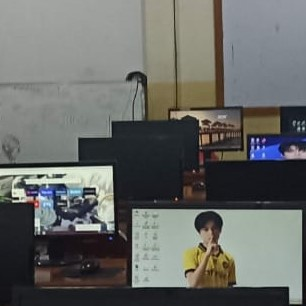monitor: (1, 103, 305, 304), (127, 201, 306, 301), (168, 105, 306, 202), (0, 161, 120, 242), (0, 202, 36, 301), (247, 132, 306, 161)
